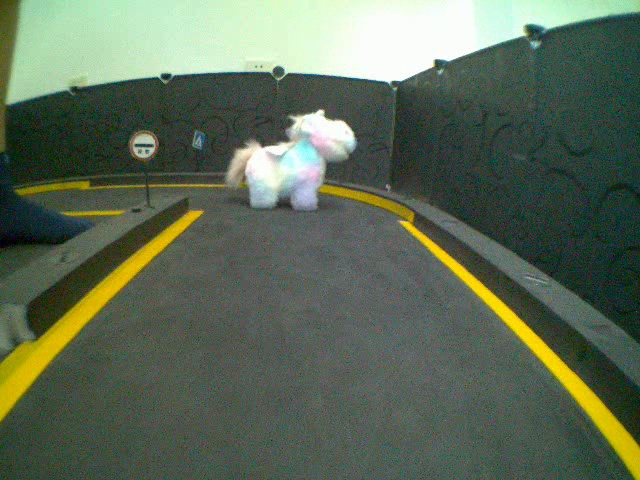unicorn: (227, 108, 361, 211)
